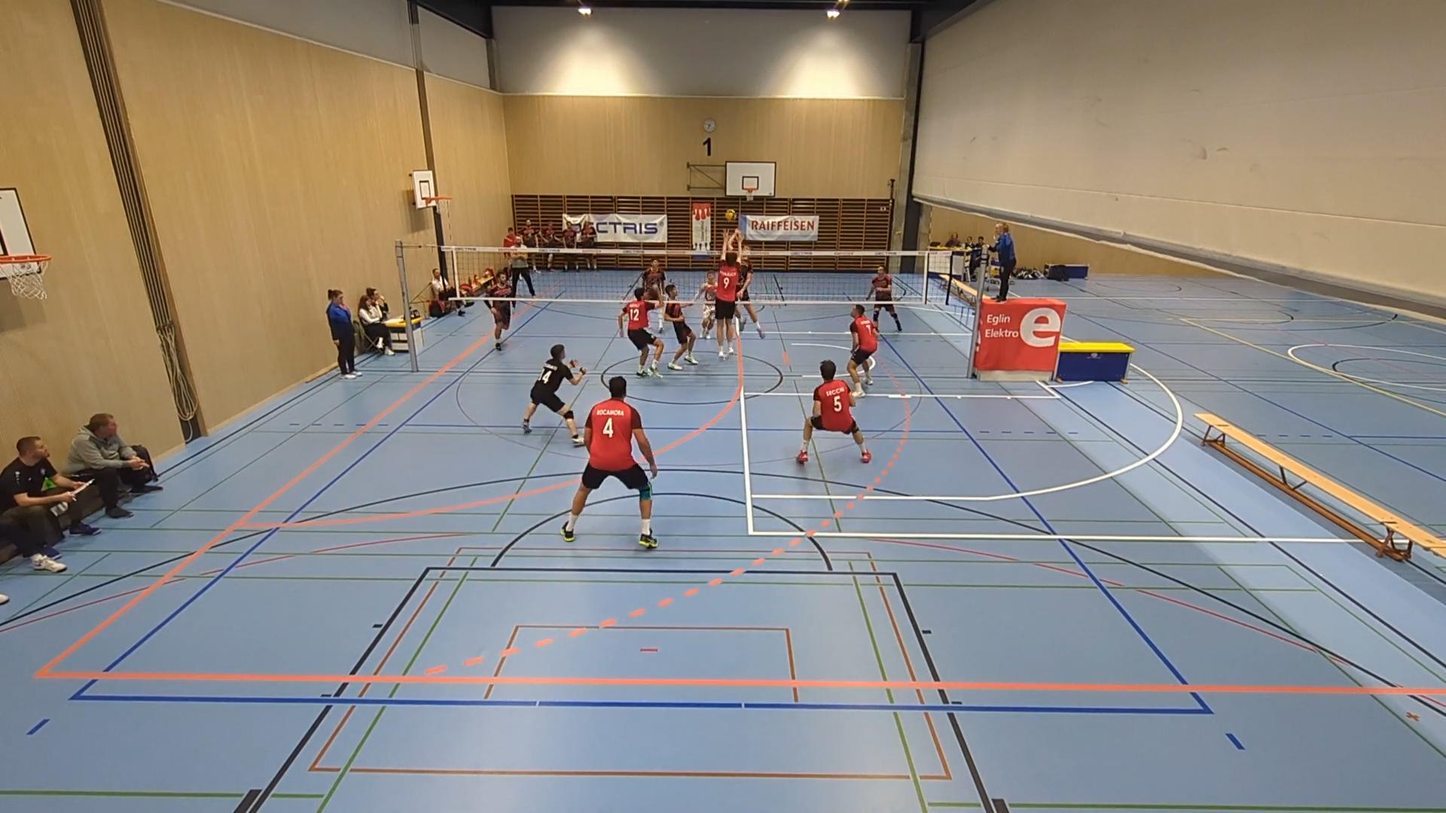attacco: (723, 223, 771, 343)
muro: (712, 225, 742, 360)
